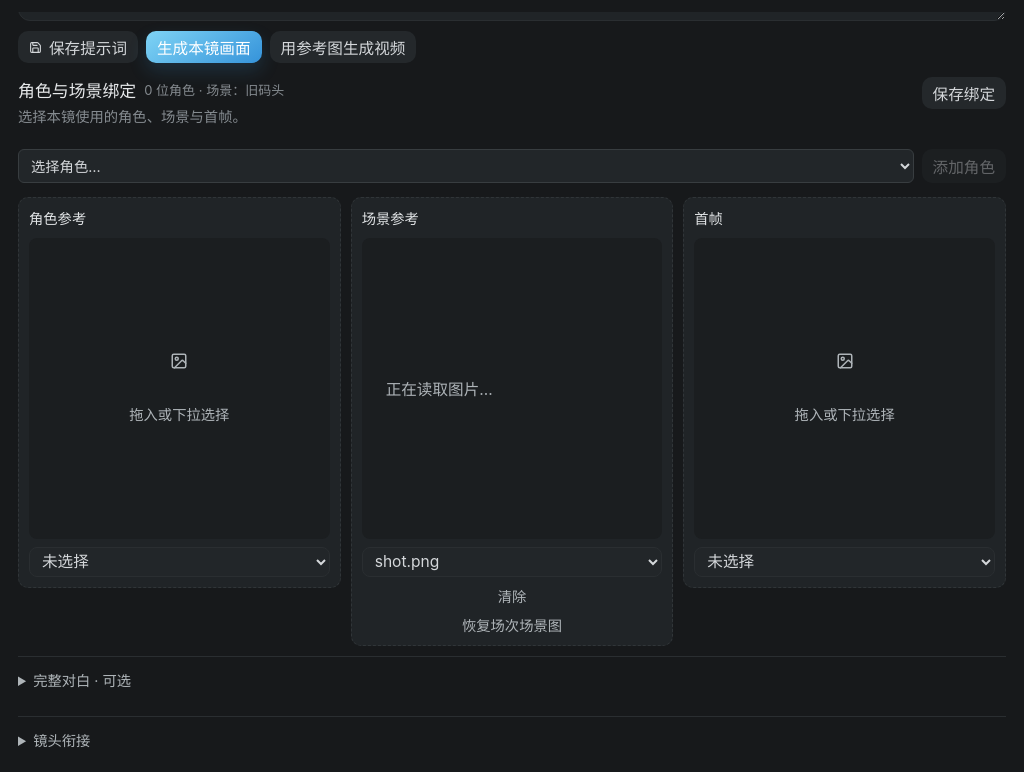
it: ShotWorkspace › keeps explicit shot references and can clear or restore scene inheritance
This screenshot has width=1024, height=772.
(page scrolled)
Click the button "用参考图生成视频".
click(343, 47)  # box [270,31,416,63]
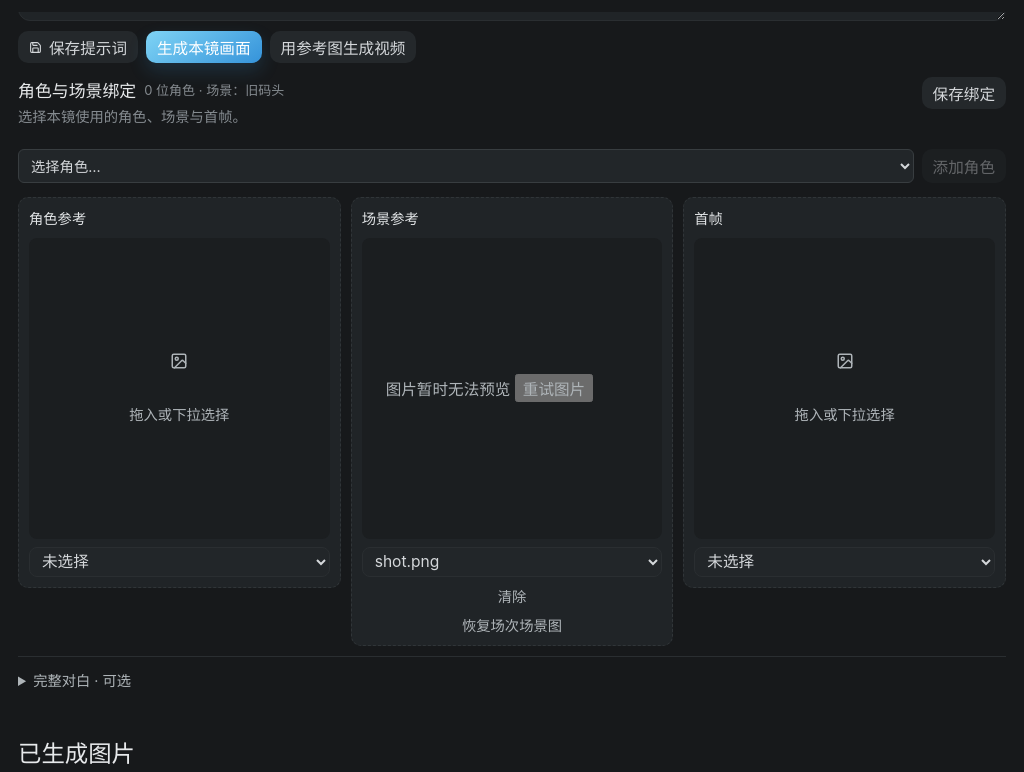
Click the button "恢复场次场景图".
click(512, 624)  # box [362,614,662,634]
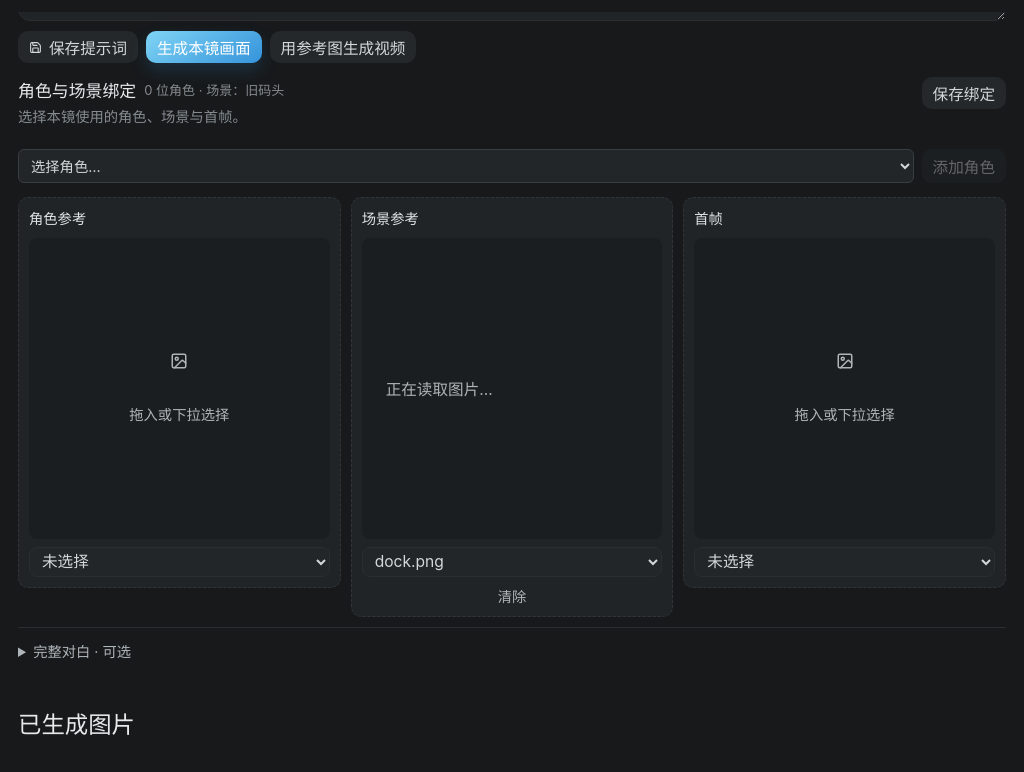
Now the dropdown named "场景参考" shows "dock.png", box [362,546,662,576]
Click the button "清除".
click(512, 595)  # box [362,584,662,606]
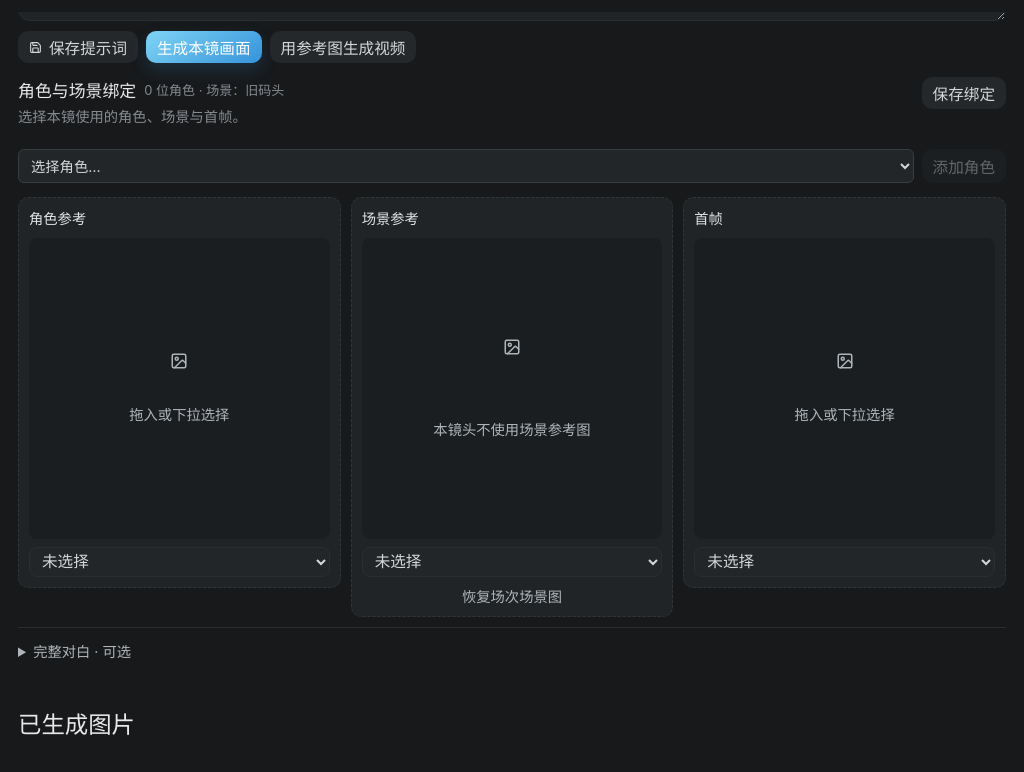
Now the dropdown named "场景参考" shows "未选择", box [362,546,662,576]
Click the button "恢复场次场景图".
click(512, 595)  # box [362,584,662,606]
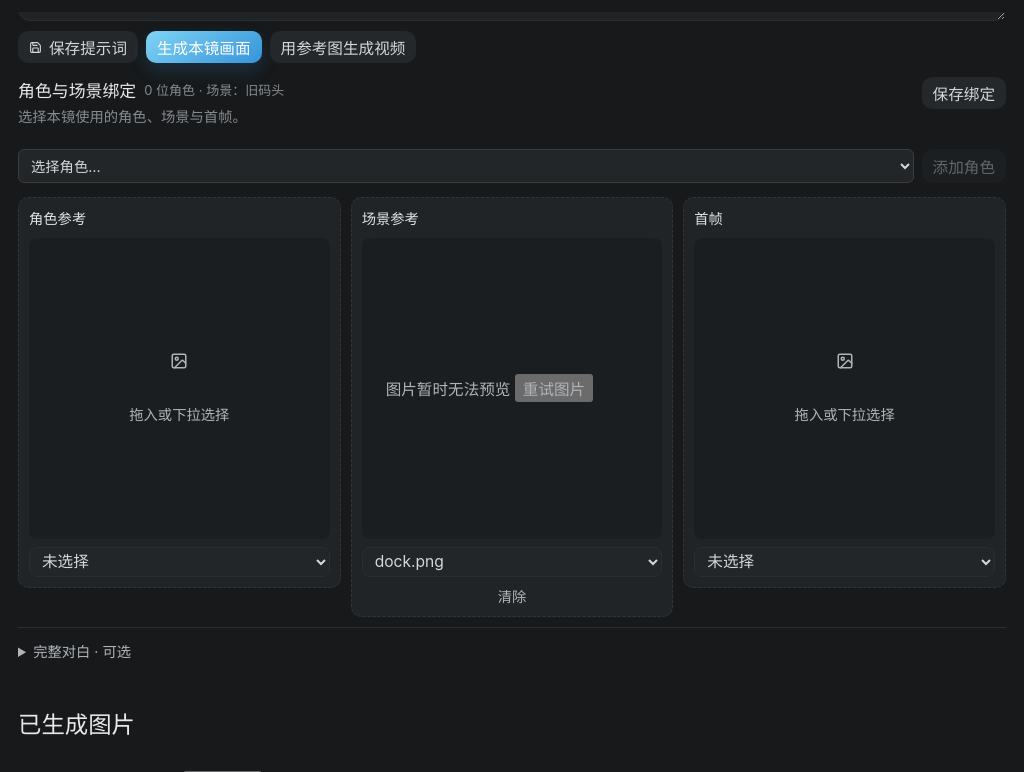
Now the dropdown named "场景参考" shows "dock.png", box [362,546,662,576]
